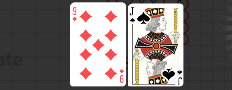7S: (128, 5, 136, 23)
9D: (71, 5, 78, 22)
